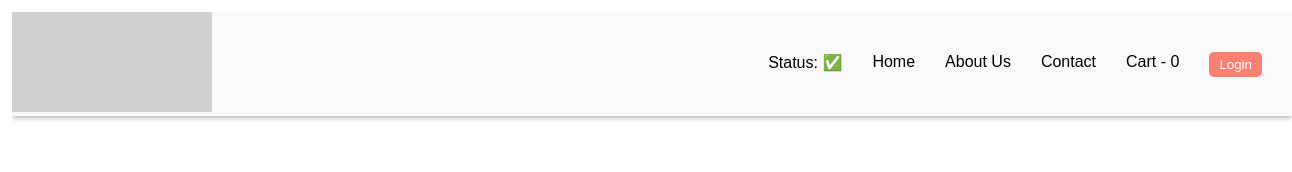
Test: Unit test cases for Header components › Should it render header component where login button changes to Logout on click
Click the button "Login". click: [1236, 64]
box: x1=1209 y1=52 x2=1262 y2=76
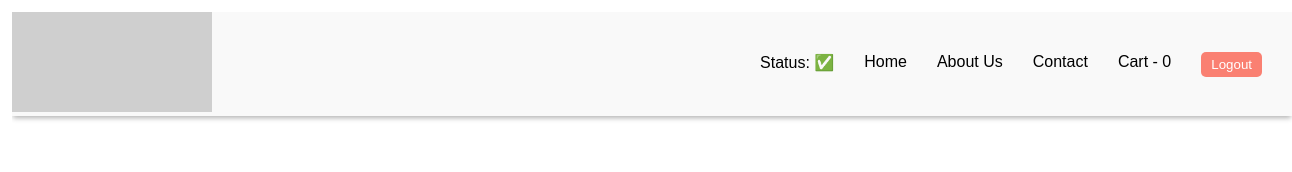
Now the button "Logout" is shown, box x1=1201 y1=52 x2=1262 y2=76
